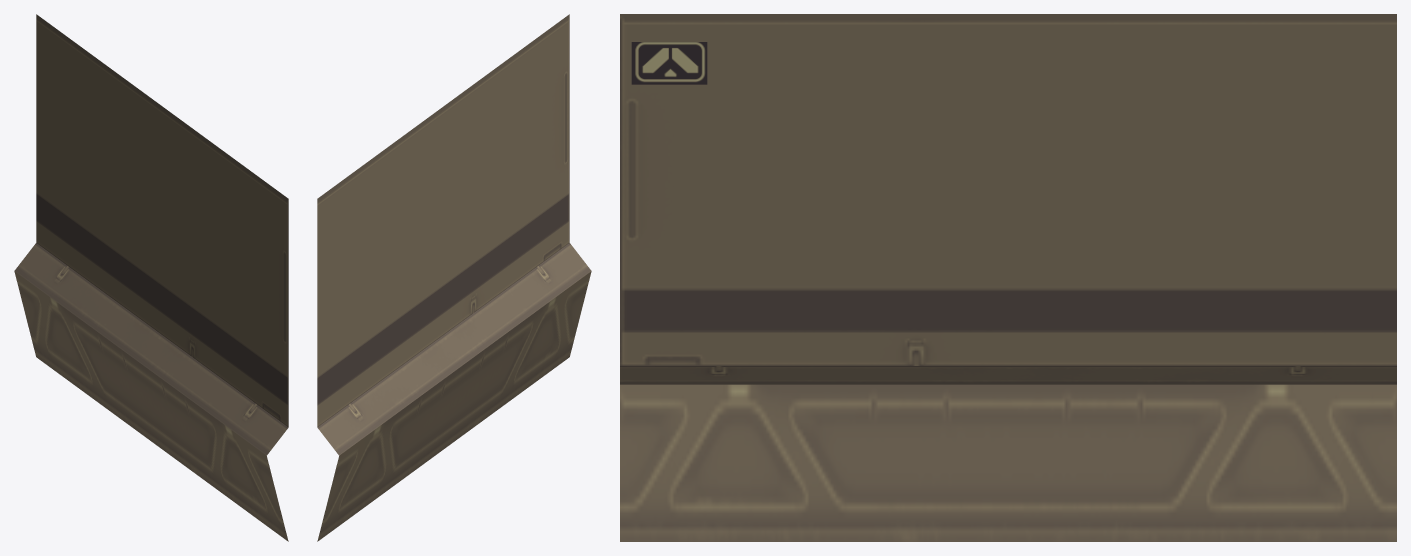
Rendered from WallBand_Straight.gltf.
3 views of the same model, side by side, from view 1: azimuth 30°, elevation 25°; view 2: azimuth 150°, elevation 25°; view 3: azimuth 270°, elevation 25° (orthographic). The views are drawn at different scales.
Visible parts, largest first — view 1: WallBand_Straight; view 2: WallBand_Straight; view 3: WallBand_Straight.
Boxes of the visible parts, x1,y1,x2,y2 form: WallBand_Straight: (14,14,288,541); WallBand_Straight: (317,14,591,541); WallBand_Straight: (620,14,1396,541).
Bounding box in the file's own units: 0.2075 × 3 × 4.
3 materials, 3 textured.
